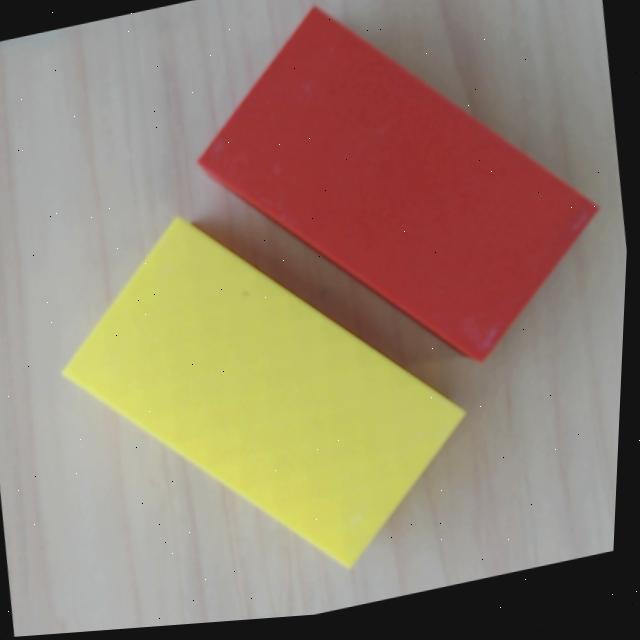Balok-Kuning-1005025: (61, 211, 466, 575)
Balok-Merah-1005025: (194, 3, 598, 372)
